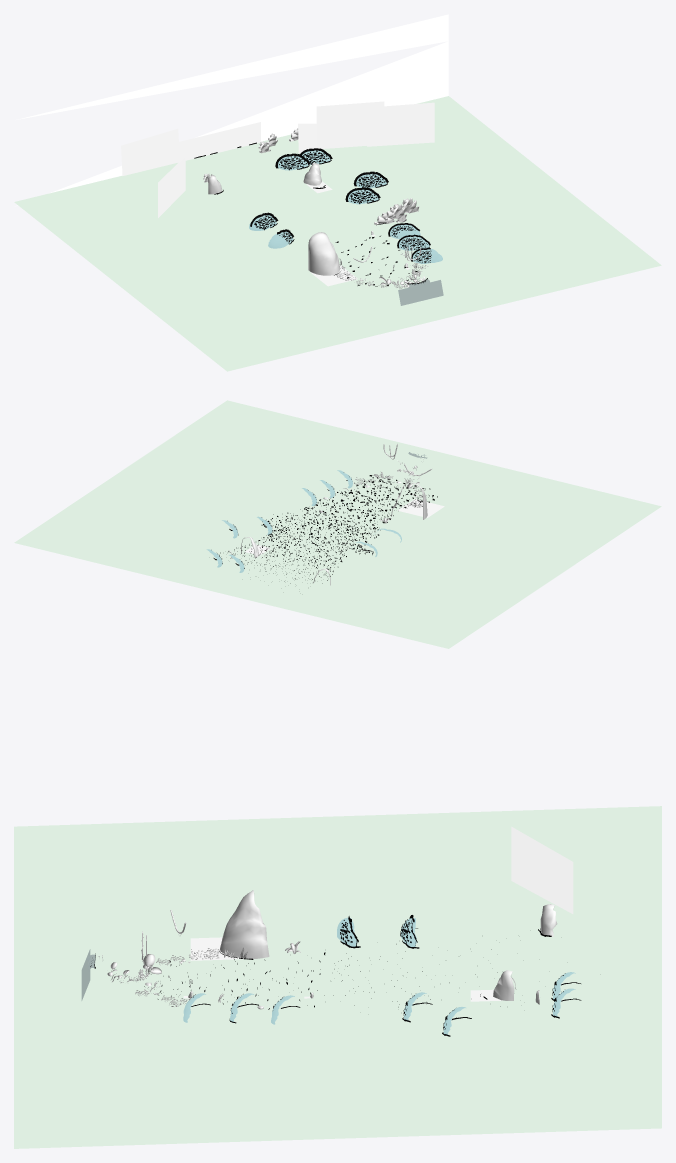
3 views of the same model, one above another, from view 1: azimuth 30°, elevation 25°; view 2: azimuth 150°, elevation 25°; view 3: azimuth 270°, elevation 25° (orthographic). The views are drawn at different scales.
Parts seen in each view (by area): view 1: Green_01, sky, Background_Trees, Cloud, herbs, bushes, rocks, main_plant_texture_2, Background_Trees_1, Plane_1, rock_Shadows; view 2: Green_01, herbs, bushes, rock_Shadows, rocks; view 3: Green_01, Background_Trees_1, rocks, bushes, herbs, rock_Shadows, main_plant_texture.
Boxes of the visible parts, <box> form: Green_01: <box>14,96,661,371</box>; sky: <box>15,14,448,206</box>; Background_Trees: <box>316,101,434,148</box>; Cloud: <box>121,122,316,175</box>; herbs: <box>194,142,431,286</box>; bushes: <box>249,150,442,263</box>; rocks: <box>208,162,407,283</box>; main_plant_texture_2: <box>203,128,428,270</box>; Background_Trees_1: <box>158,156,185,217</box>; Plane_1: <box>398,280,443,305</box>; rock_Shadows: <box>306,181,409,286</box>; Green_01: <box>14,400,661,648</box>; herbs: <box>213,475,437,583</box>; bushes: <box>206,470,401,572</box>; rock_Shadows: <box>245,485,444,555</box>; rocks: <box>227,481,427,585</box>; Green_01: <box>14,806,661,1148</box>; Background_Trees_1: <box>511,826,573,913</box>; rocks: <box>145,890,557,1009</box>; bushes: <box>183,917,575,1034</box>; herbs: <box>90,915,581,1036</box>; rock_Shadows: <box>183,937,502,1001</box>; main_plant_texture: <box>98,948,220,1001</box>.
Size of the model in its own units: 200 by 50.44 by 170.
